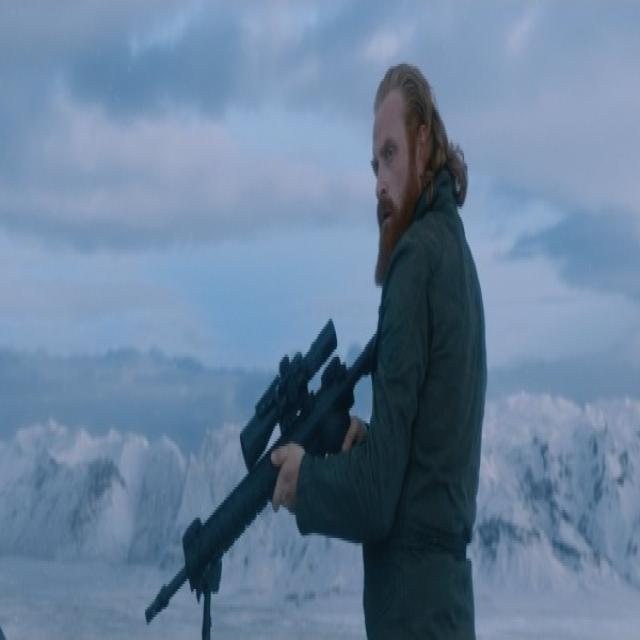rifle: (142, 316, 384, 640)
